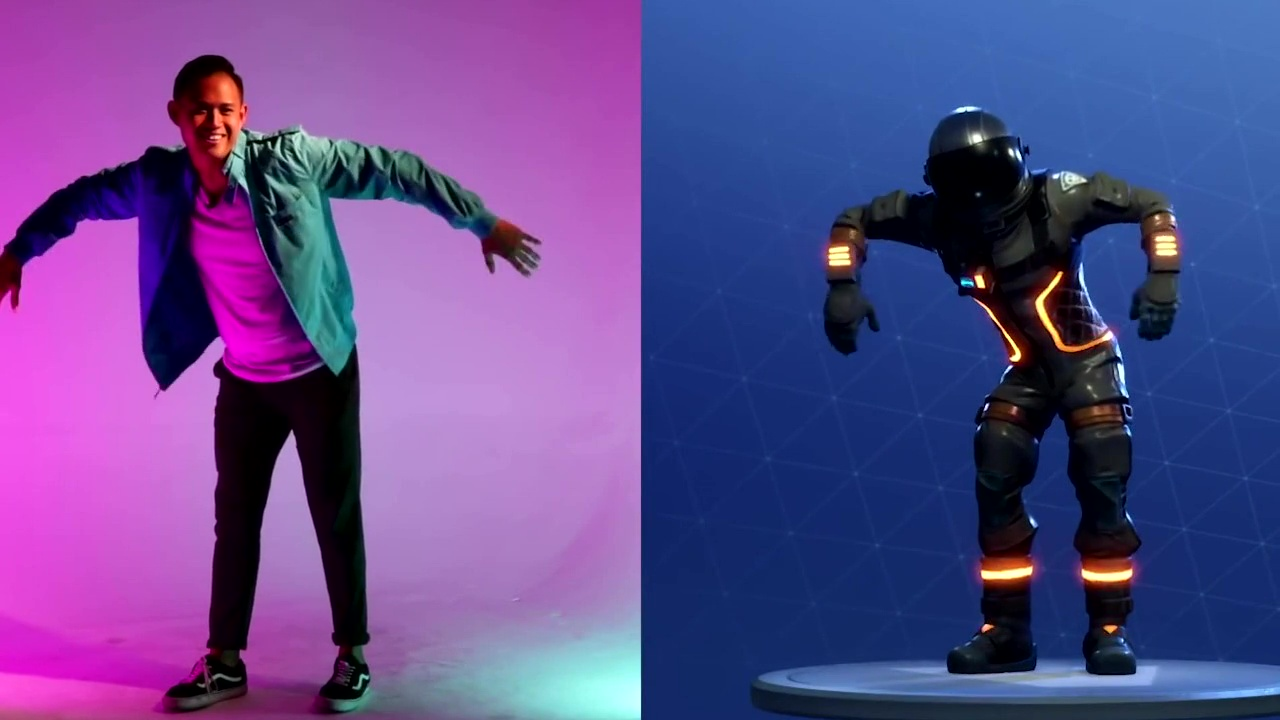Head: (162, 53, 244, 157)
Hip: (216, 343, 336, 379)
LeftAnkle: (314, 631, 407, 711)
LeftElbow: (375, 124, 440, 226)
LeftKnee: (297, 491, 386, 558)
LeftShoulder: (269, 90, 353, 228)
LeftWrist: (460, 208, 548, 282)
RightAnkle: (153, 650, 262, 703)
RightElbow: (30, 164, 100, 255)
RightKnee: (186, 474, 272, 557)
RightShoulder: (116, 125, 176, 211)
Torso: (192, 228, 303, 329)
